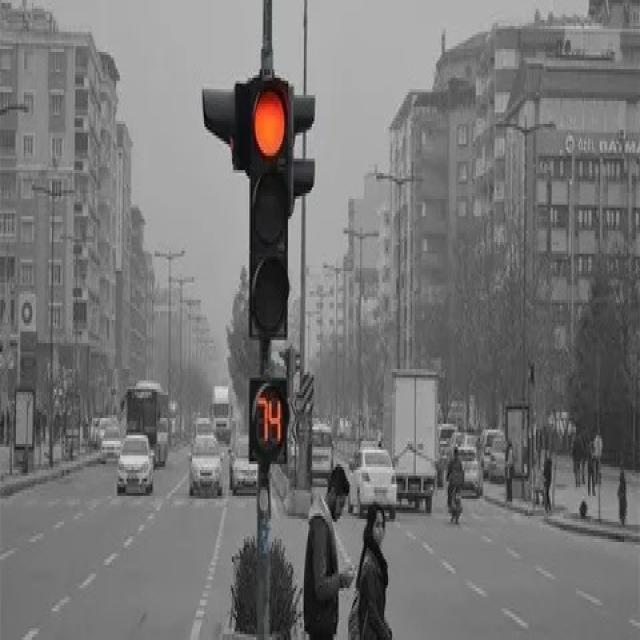kirmizi: (251, 79, 289, 337)
